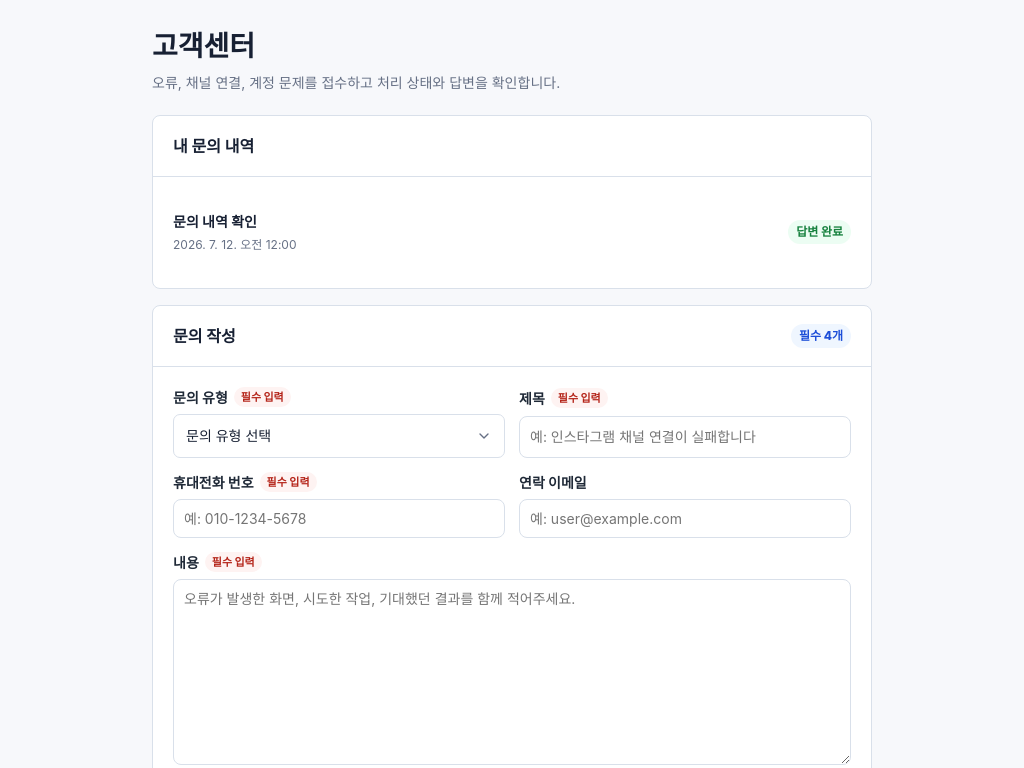
Test: SupportPage › shows submitted inquiries and their answers
Expected: the heading "내 문의 내역" is shown, [173,134,254,158]
Click the button "문의 내역 확인". click: coordinates (215, 221)
box: [173,197,851,268]
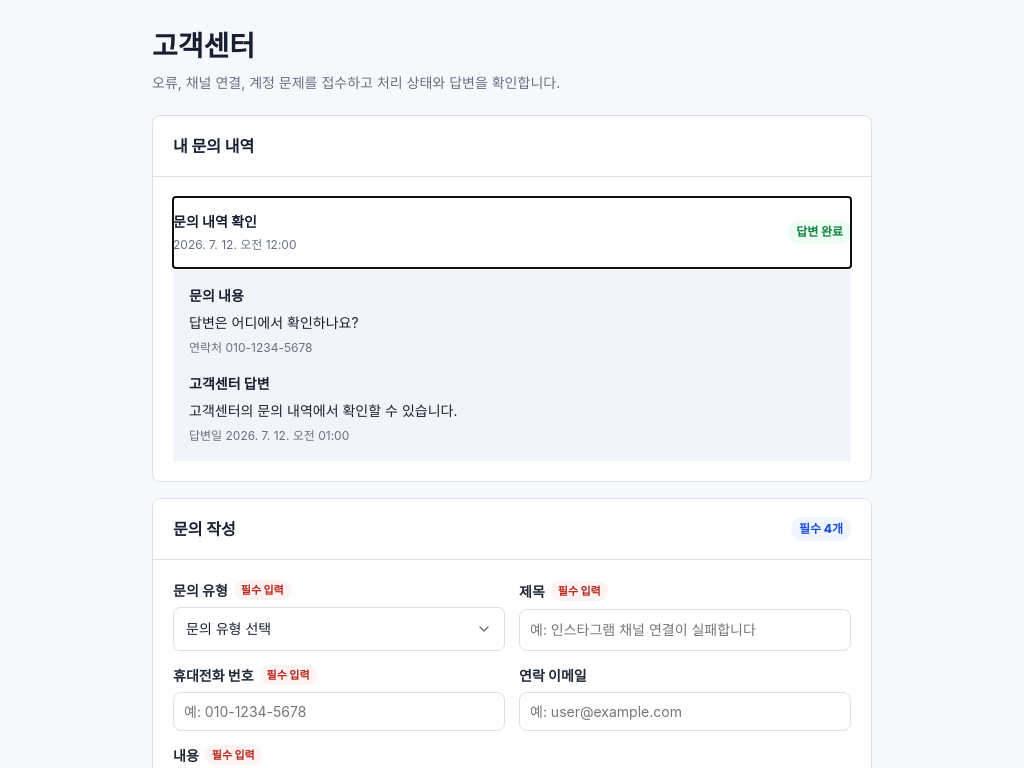
Expected: the text "답변은 어디에서 확인하나요?" is shown, [189,314,359,331]
Expected: the text "고객센터의 문의 내역에서 확인할 수 있습니다." is shown, [189,402,458,419]
